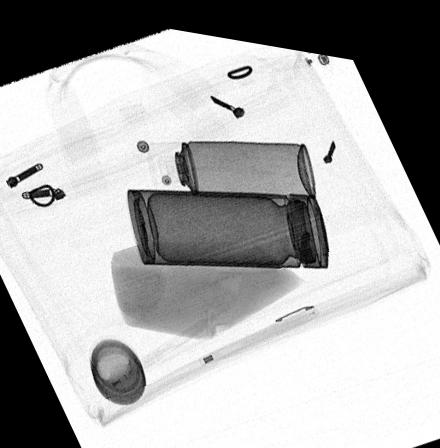Sprayer: (142, 131, 315, 189)
